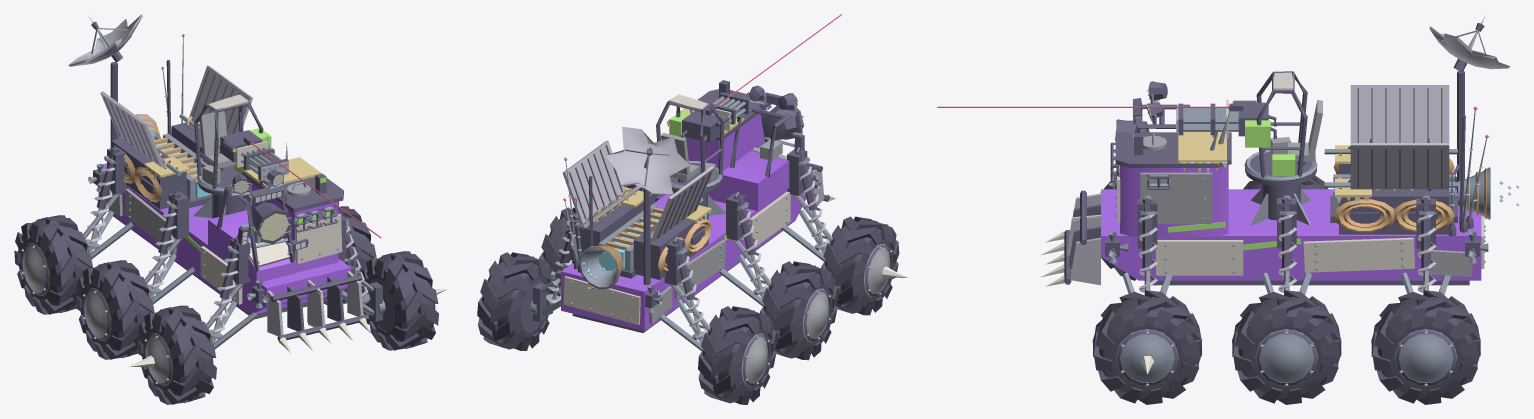
File: warrig_b.glb
3 renders of one model, left to right at view 1: azimuth 30°, elevation 25°; view 2: azimuth 150°, elevation 25°; view 3: azimuth 270°, elevation 25°, orthographic. The views are drawn at different scales.
Parts seen in each view (by area): view 1: wb_wb_chassis_dark_15, wb_w0_wb_wheel0_tire_50, wb_wb_chassis_body_70, wb_w1_wb_wheel1_tire_50, wb_w4_wb_wheel4_tire_50, wb_w2_wb_wheel2_tire_50, wb_wb_chassis_dark_20, wb_wb_chassis_metal_25, wb_wb_chassis_bleach_25, wb_wb_chassis_dark_30, wb_wb_chassis_dark_40, wb_wb_chassis_body_50 (+28 smaller); view 2: wb_wb_chassis_body_70, wb_w4_wb_wheel4_tire_50, wb_w5_wb_wheel5_tire_50, wb_wb_chassis_dark_20, wb_w2_wb_wheel2_tire_50, wb_w0_wb_wheel0_tire_50, wb_wb_chassis_metal_25, wb_wb_chassis_bleach_25, wb_wb_chassis_metal_20, wb_wb_chassis_dark_15, wb_wb_chassis_dark_40, wb_wb_chassis_body_50 (+25 smaller); view 3: wb_wb_chassis_body_70, wb_wb_chassis_metal_25, wb_w5_wb_wheel5_tire_50, wb_w3_wb_wheel3_tire_50, wb_w1_wb_wheel1_tire_50, wb_wb_chassis_bleach_25, wb_wb_chassis_dark_20, wb_wb_chassis_dark_30, wb_wb_chassis_dark_15, wb_wb_chassis_primer_25, wb_w5_wb_wheel5_steel_20, wb_w3_wb_wheel3_steel_20 (+28 smaller).
Part boxes in pixels (x1,y1,x2,y2): wb_wb_chassis_dark_15: [93, 62, 382, 340]; wb_w0_wb_wheel0_tire_50: [137, 305, 216, 404]; wb_wb_chassis_body_70: [98, 163, 350, 314]; wb_w1_wb_wheel1_tire_50: [361, 251, 438, 350]; wb_w4_wb_wheel4_tire_50: [14, 215, 93, 314]; wb_w2_wb_wheel2_tire_50: [76, 260, 154, 359]; wb_wb_chassis_dark_20: [96, 147, 356, 299]; wb_wb_chassis_metal_25: [100, 65, 252, 167]; wb_wb_chassis_bleach_25: [200, 214, 342, 304]; wb_wb_chassis_dark_30: [113, 171, 343, 319]; wb_wb_chassis_dark_40: [111, 120, 202, 209]; wb_wb_chassis_body_50: [208, 210, 295, 281]; wb_wb_chassis_body_70: [561, 108, 811, 330]; wb_w4_wb_wheel4_tire_50: [698, 306, 776, 404]; wb_w5_wb_wheel5_tire_50: [477, 252, 555, 350]; wb_wb_chassis_dark_20: [559, 85, 817, 299]; wb_w2_wb_wheel2_tire_50: [760, 261, 837, 360]; wb_w0_wb_wheel0_tire_50: [821, 216, 899, 315]; wb_wb_chassis_metal_25: [562, 140, 714, 241]; wb_wb_chassis_bleach_25: [563, 191, 790, 324]; wb_wb_chassis_metal_20: [605, 126, 690, 194]; wb_wb_chassis_dark_15: [533, 80, 832, 333]; wb_wb_chassis_dark_40: [573, 202, 708, 279]; wb_wb_chassis_body_50: [719, 151, 789, 211]; wb_wb_chassis_body_70: [1101, 165, 1481, 280]; wb_wb_chassis_metal_25: [1350, 85, 1449, 189]; wb_w5_wb_wheel5_tire_50: [1371, 290, 1480, 404]; wb_w3_wb_wheel3_tire_50: [1232, 290, 1341, 404]; wb_w1_wb_wheel1_tire_50: [1092, 290, 1201, 404]; wb_wb_chassis_bleach_25: [1117, 176, 1484, 275]; wb_wb_chassis_dark_20: [1116, 81, 1457, 270]; wb_wb_chassis_dark_30: [1115, 132, 1469, 285]; wb_wb_chassis_dark_15: [1064, 70, 1479, 284]; wb_wb_chassis_primer_25: [1140, 172, 1212, 223]; wb_w5_wb_wheel5_steel_20: [1394, 329, 1457, 385]; wb_w3_wb_wheel3_steel_20: [1255, 329, 1317, 385].
Bounding box in the file's own units: 7.22 × 5.59 × 10.03.
